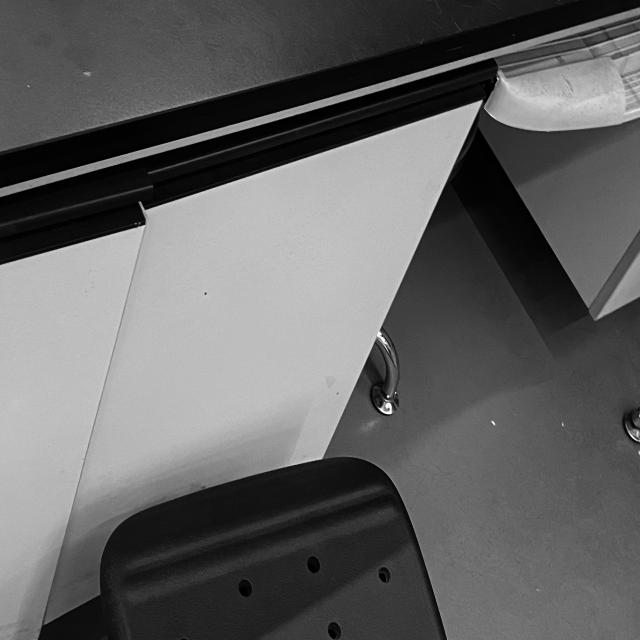Card: (0, 0, 185, 42)
